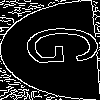G: (25, 25, 100, 66)
